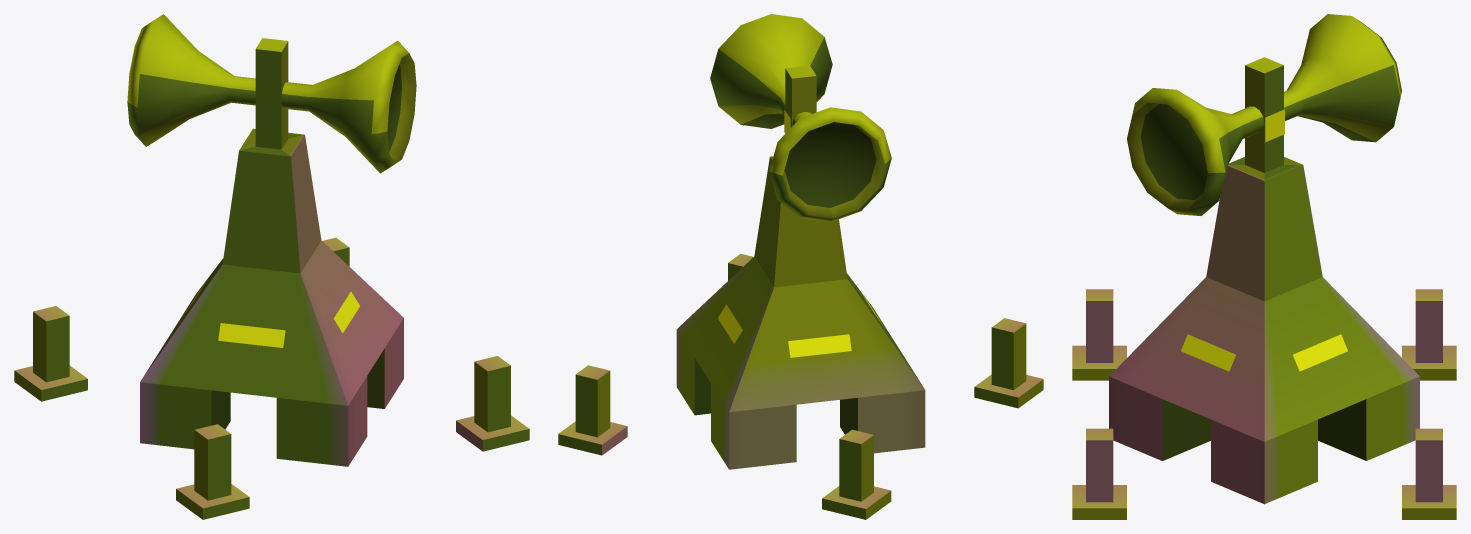
The model's file is CommTower.AcidRain.glb.
The picture shows the model from 3 angles, left to right: view 1: azimuth 30°, elevation 25°; view 2: azimuth 150°, elevation 25°; view 3: azimuth 270°, elevation 25°; orthographic projection. The views are drawn at different scales.
Parts seen in each view (by area): view 1: CommTower.AcidRain; view 2: CommTower.AcidRain; view 3: CommTower.AcidRain.
Part boxes in pixels (<box>): CommTower.AcidRain: <box>14,14,529,519</box>; CommTower.AcidRain: <box>558,14,1043,519</box>; CommTower.AcidRain: <box>1072,14,1456,519</box>.
Bounding box in the file's own units: 2.8 × 3.1 × 2.8.
2 materials, 1 textured.
